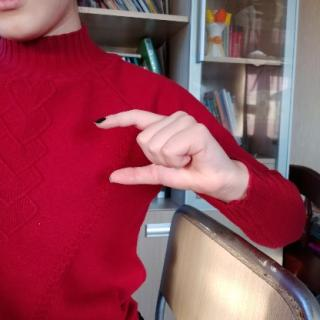DELL: (89, 104, 237, 205)
